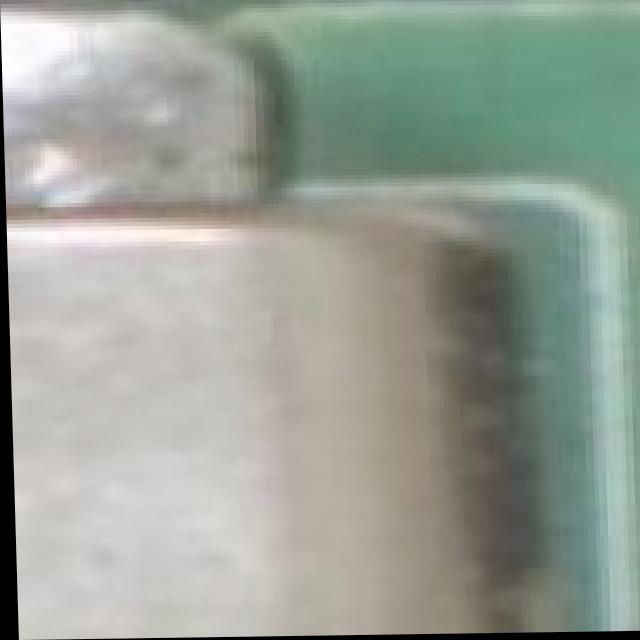clock: (3, 101, 579, 640)
